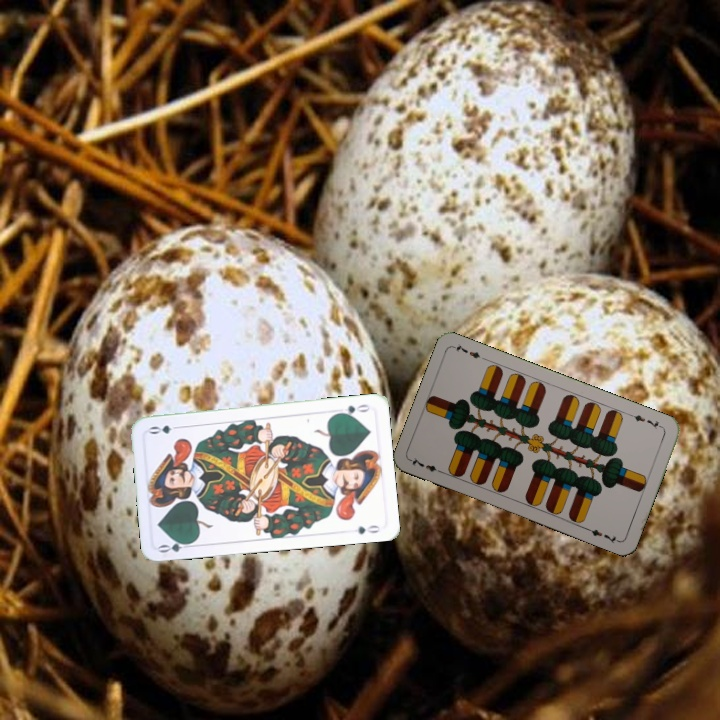E7: (626, 410, 665, 432), (407, 454, 446, 476)
GO: (155, 536, 196, 555), (332, 400, 373, 418)
